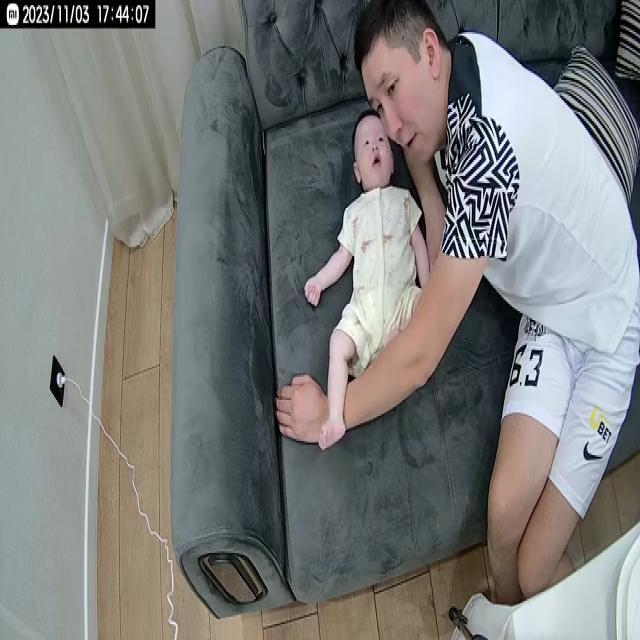baby: (301, 108, 434, 462)
